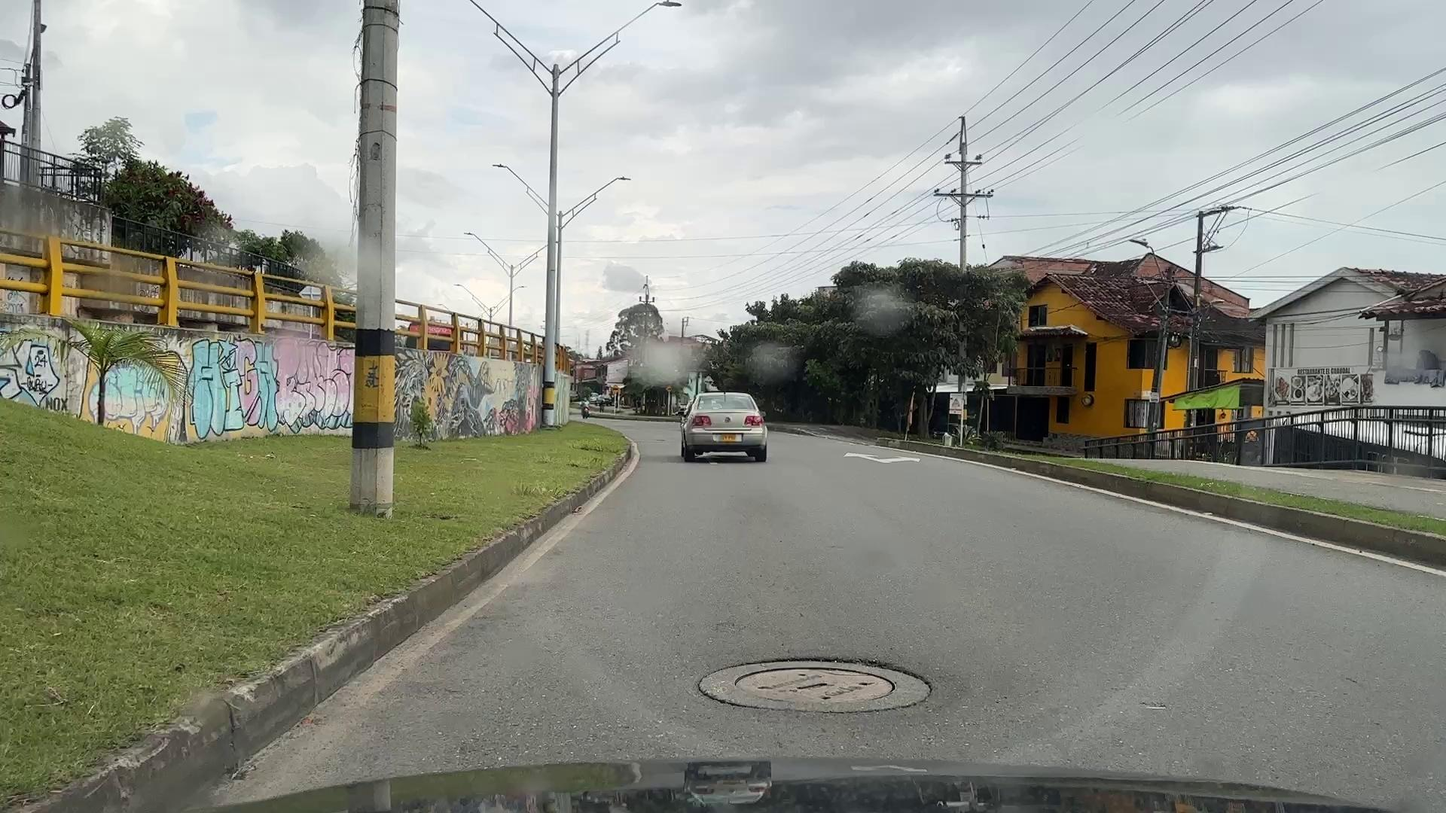bache: (1142, 702, 1166, 709)
registro: (734, 667, 895, 702)
